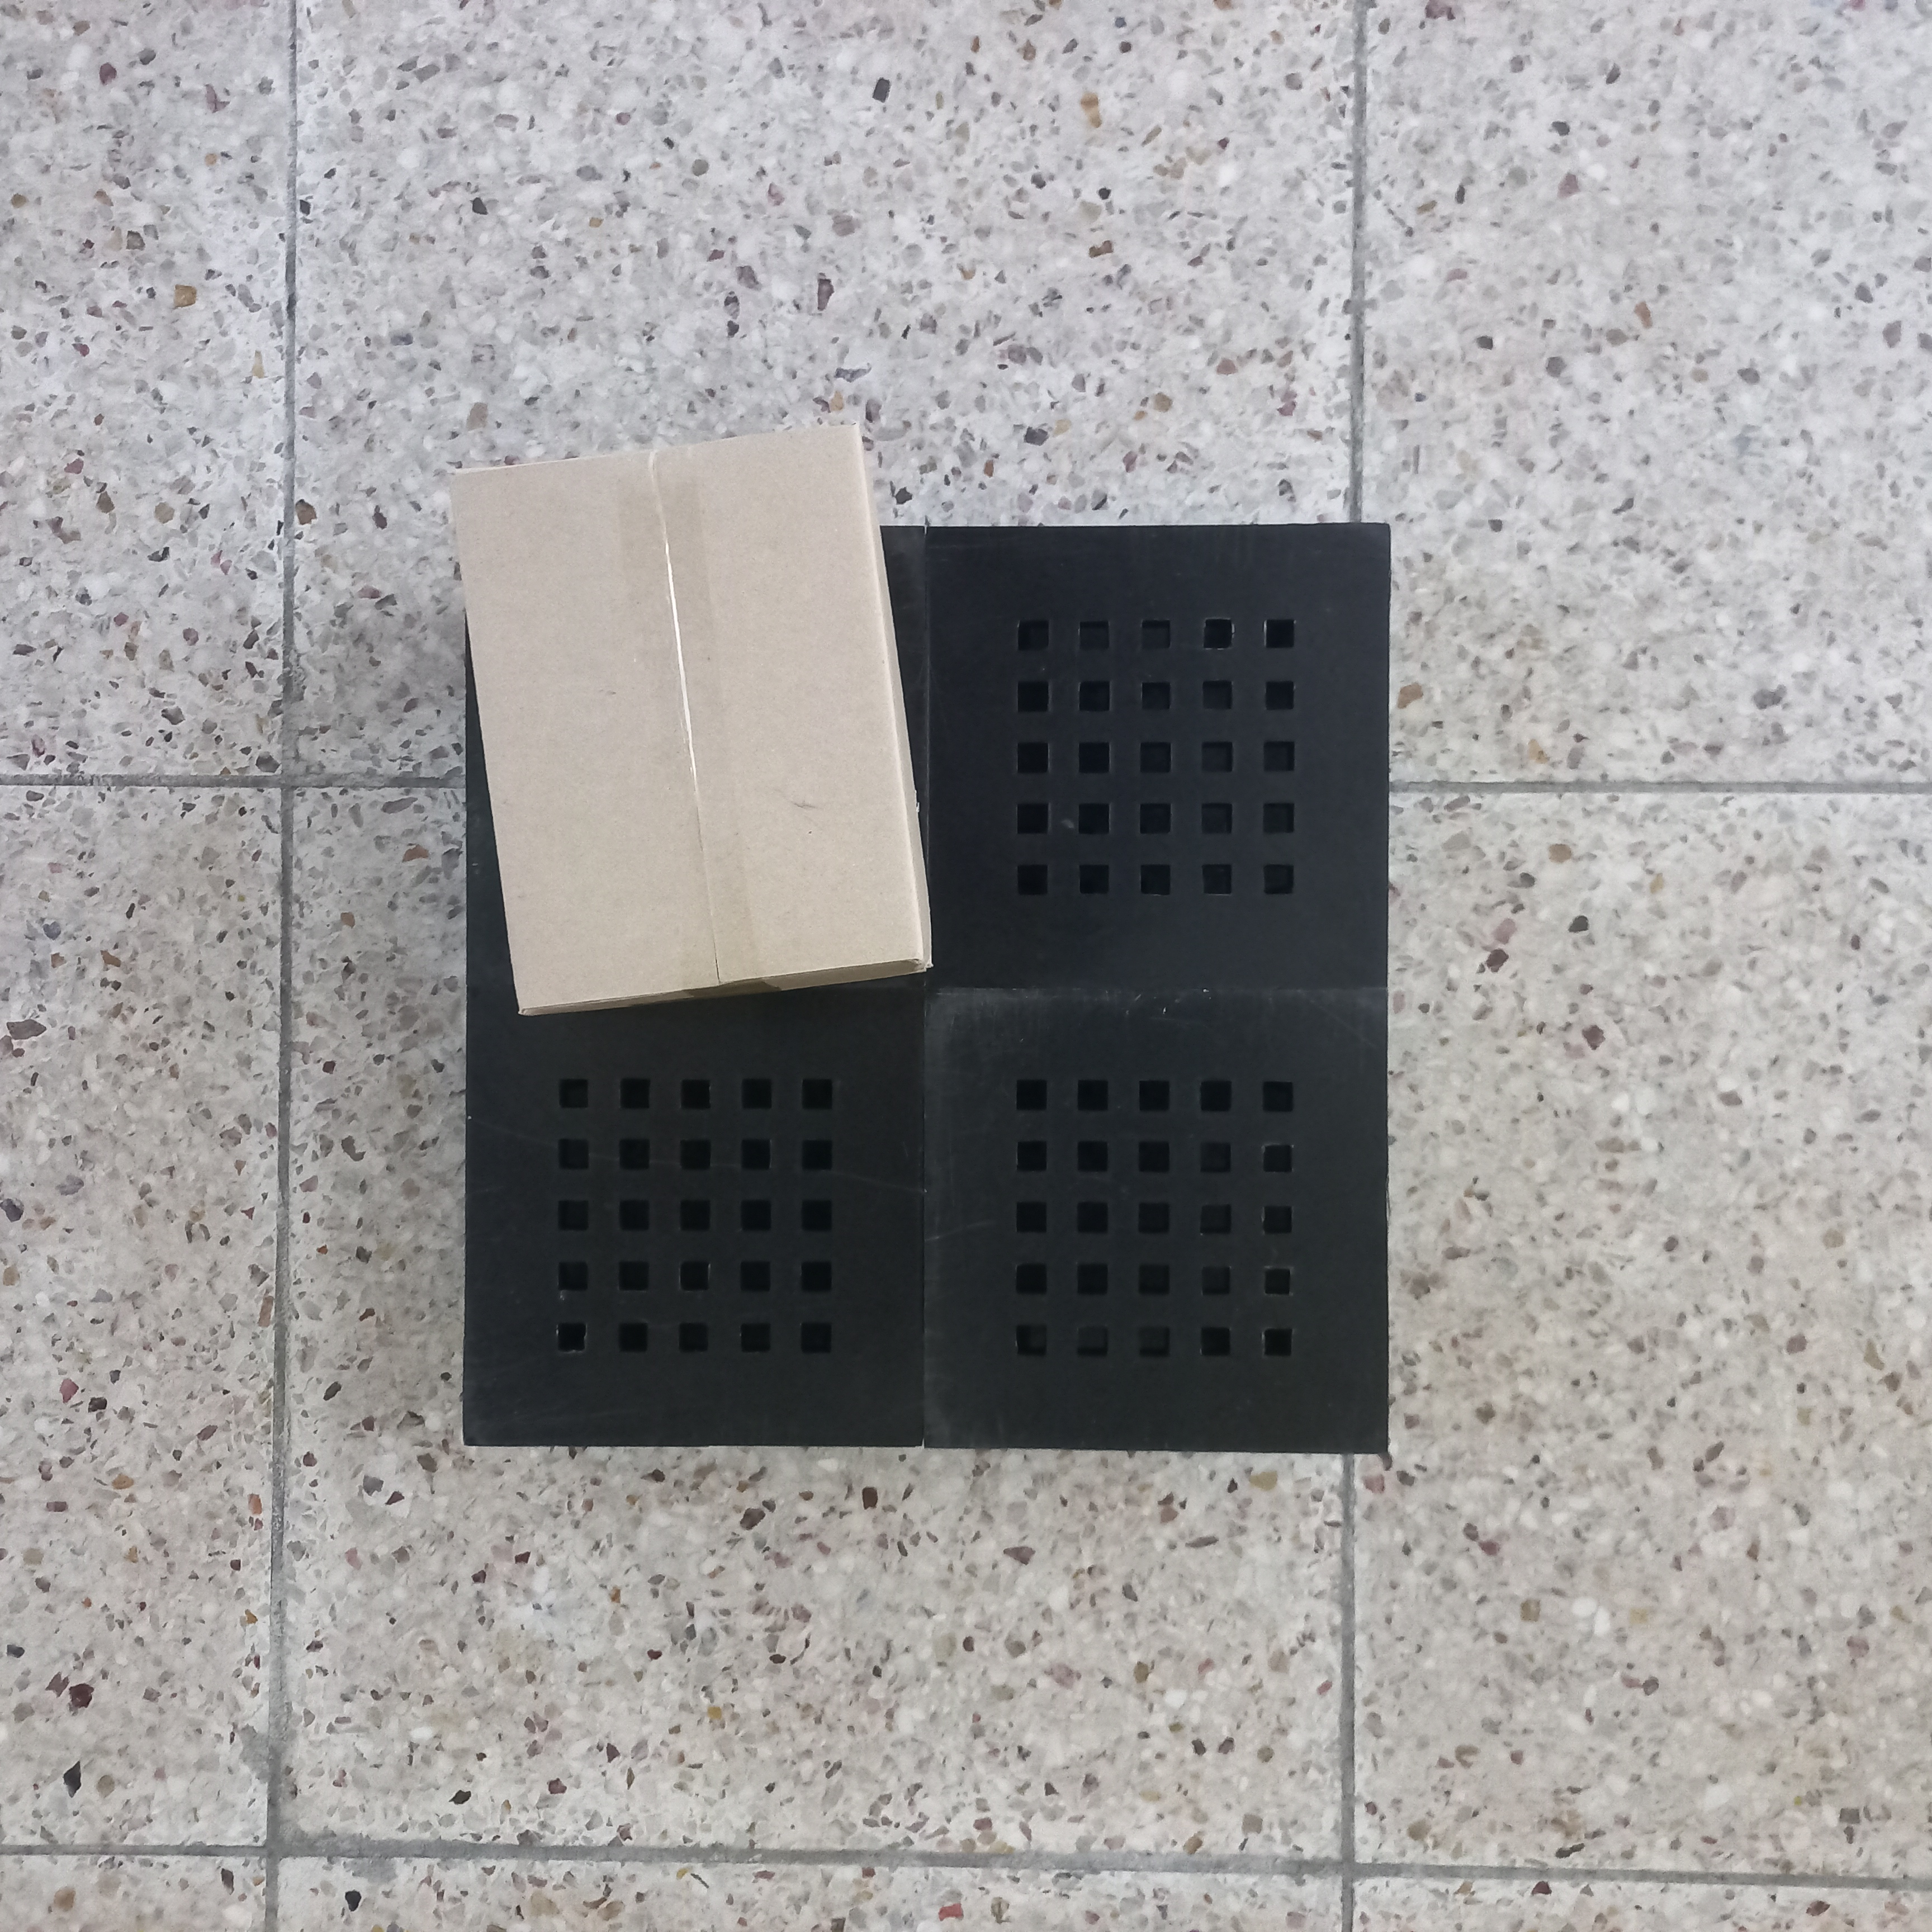box: (442, 414, 939, 1023)
pallet: (449, 517, 1398, 1447)
